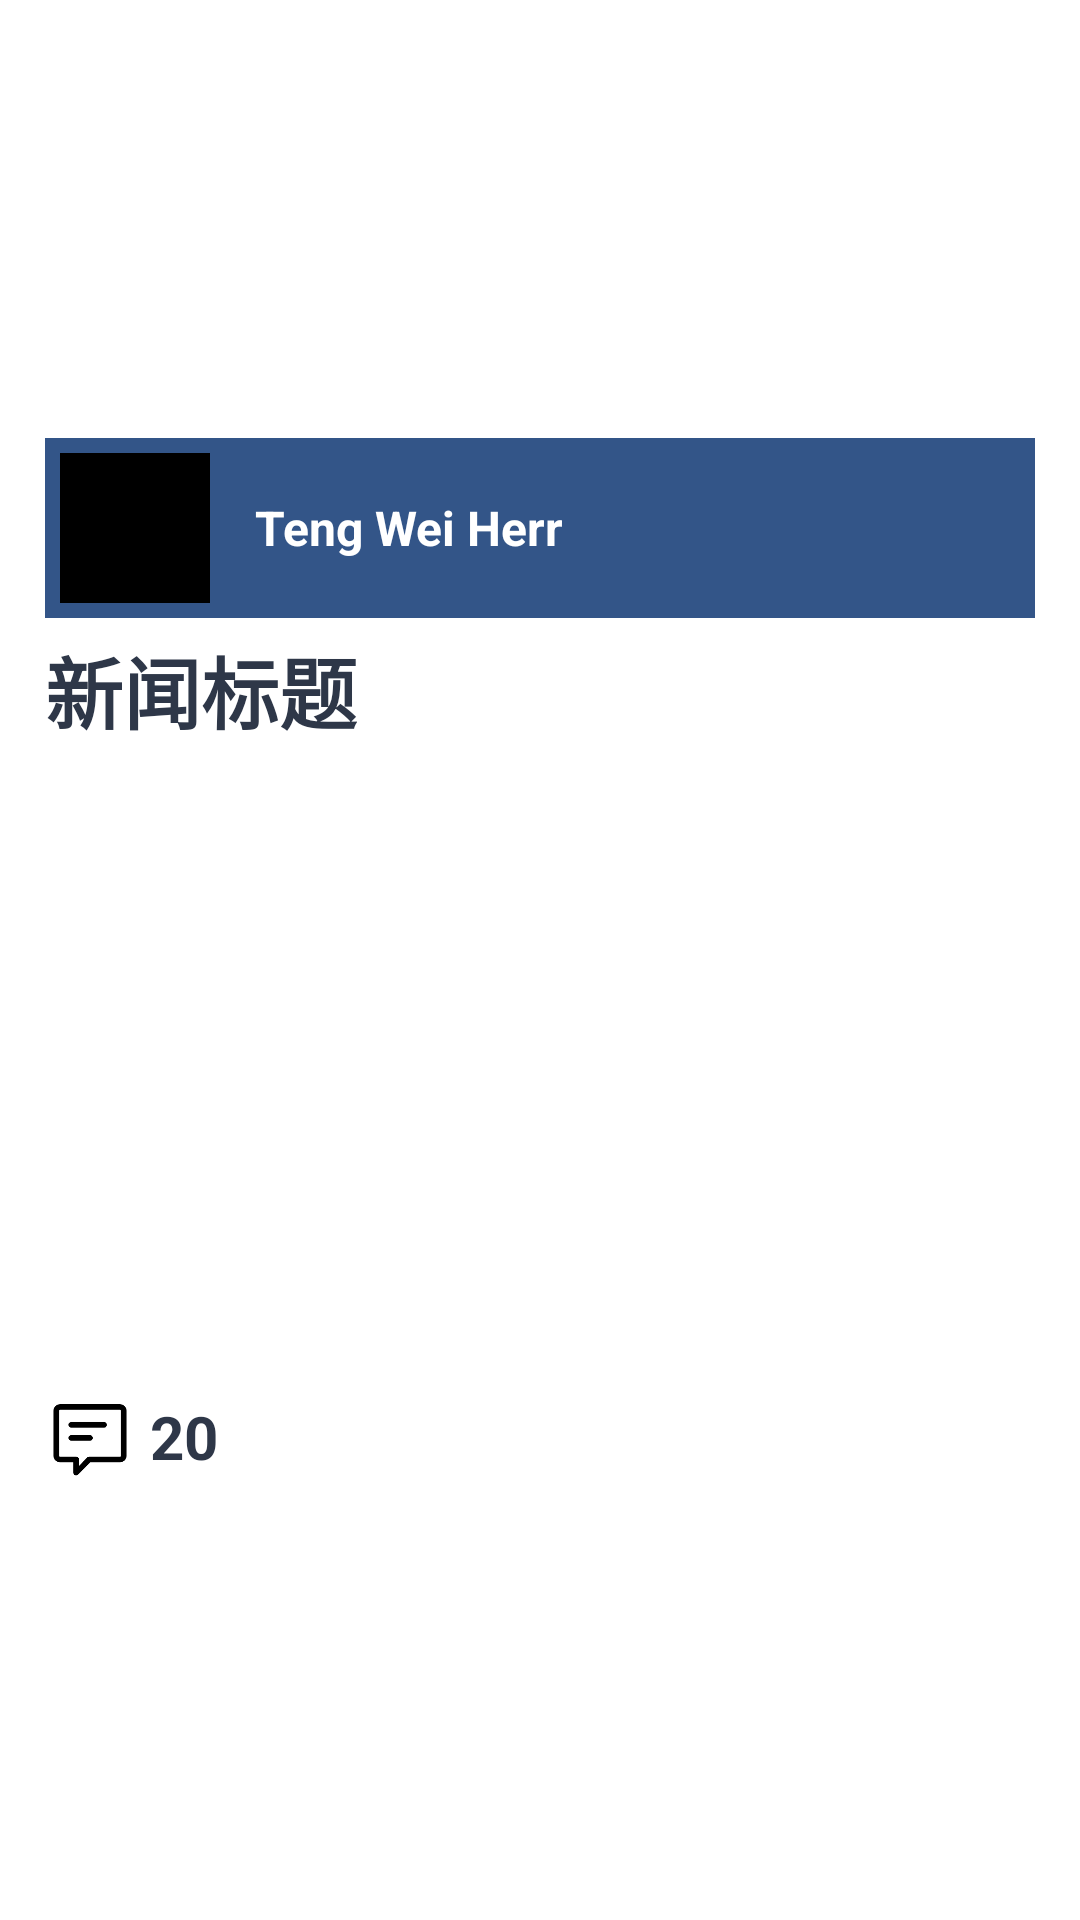

Icons on this 1080px x 1920px Android screen, each with its box as bbox=[x1, y1, x2, y2]:
comment: bbox=[53, 1404, 127, 1476]
